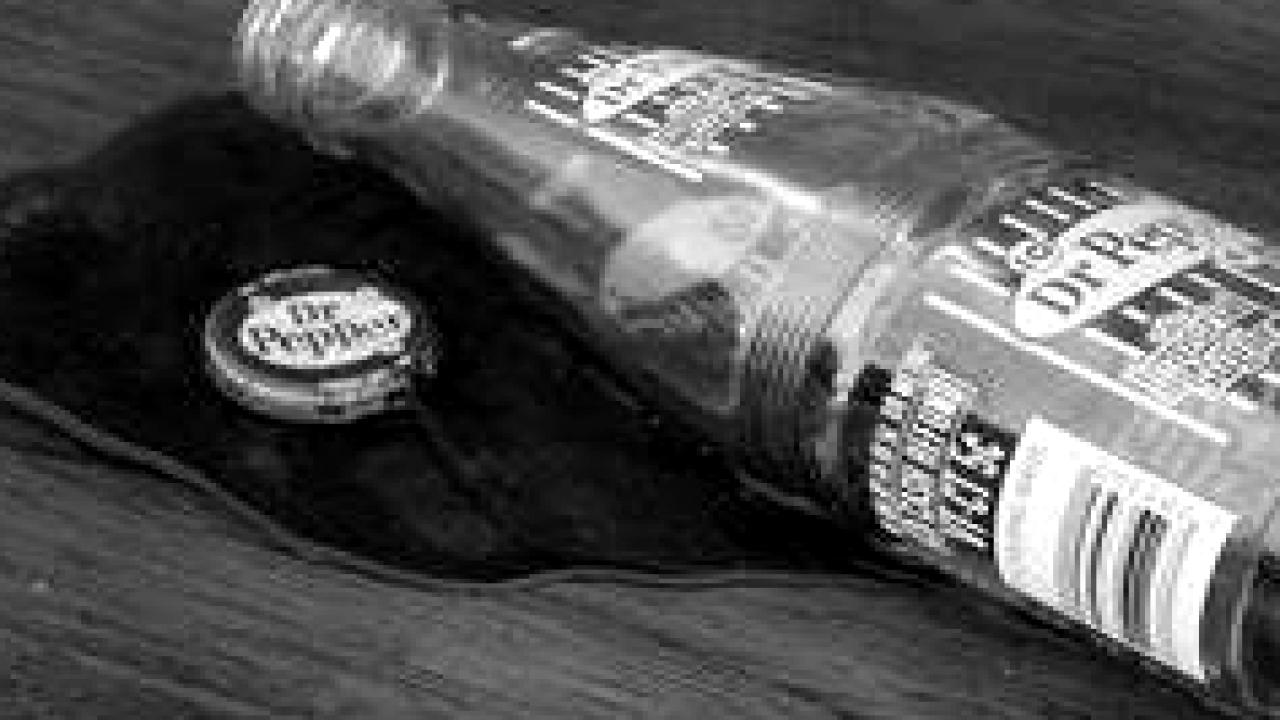drinks Stains: (0, 87, 929, 602)
